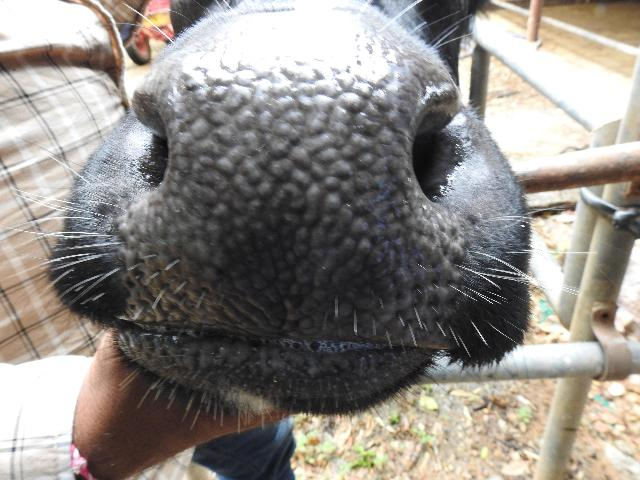Muzzle: (152, 52, 444, 322)
